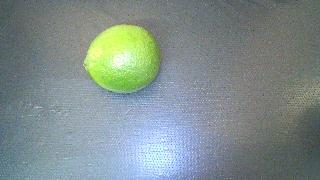EXPORTACION: (83, 25, 161, 93)
